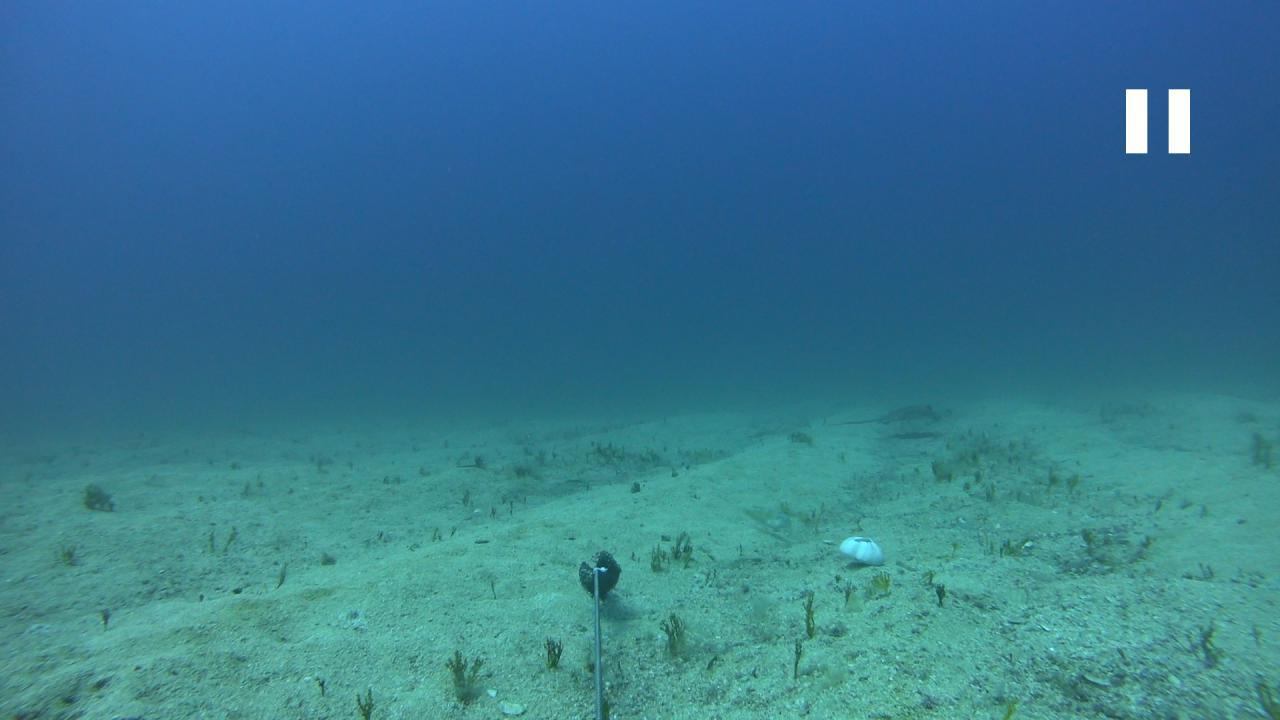dasyatis: (838, 400, 944, 425)
